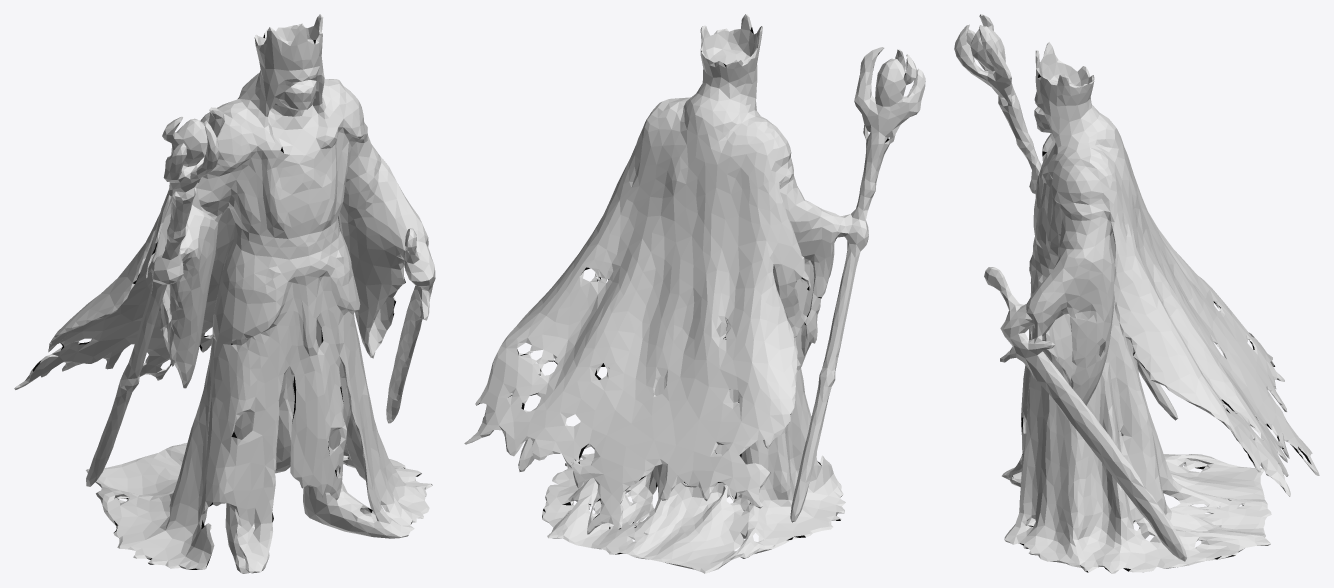
The model's file is enemy_skel_elder.glb.
3 renders of one model, left to right at view 1: azimuth 30°, elevation 25°; view 2: azimuth 150°, elevation 25°; view 3: azimuth 270°, elevation 25°, orthographic. The views are drawn at different scales.
Visible parts, largest first — view 1: Low; view 2: Low; view 3: Low.
Part boxes in pixels (x1,y1,x2,y2): Low: (14,14,435,573); Low: (464,14,925,573); Low: (954,14,1319,573).
Bounding box in the file's own units: 1.37 × 1.98 × 1.43.
1 material, 1 textured.
